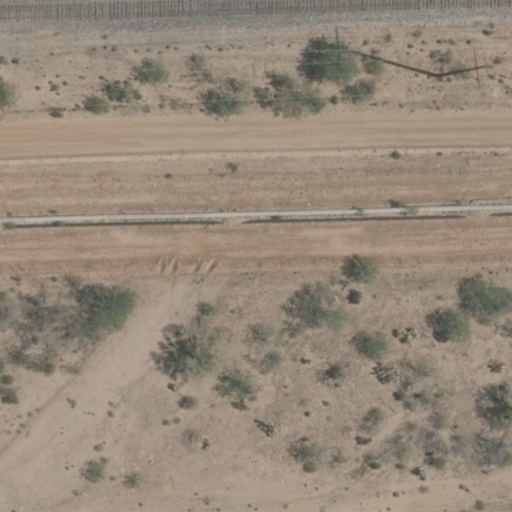DT: (435, 49, 489, 80)
